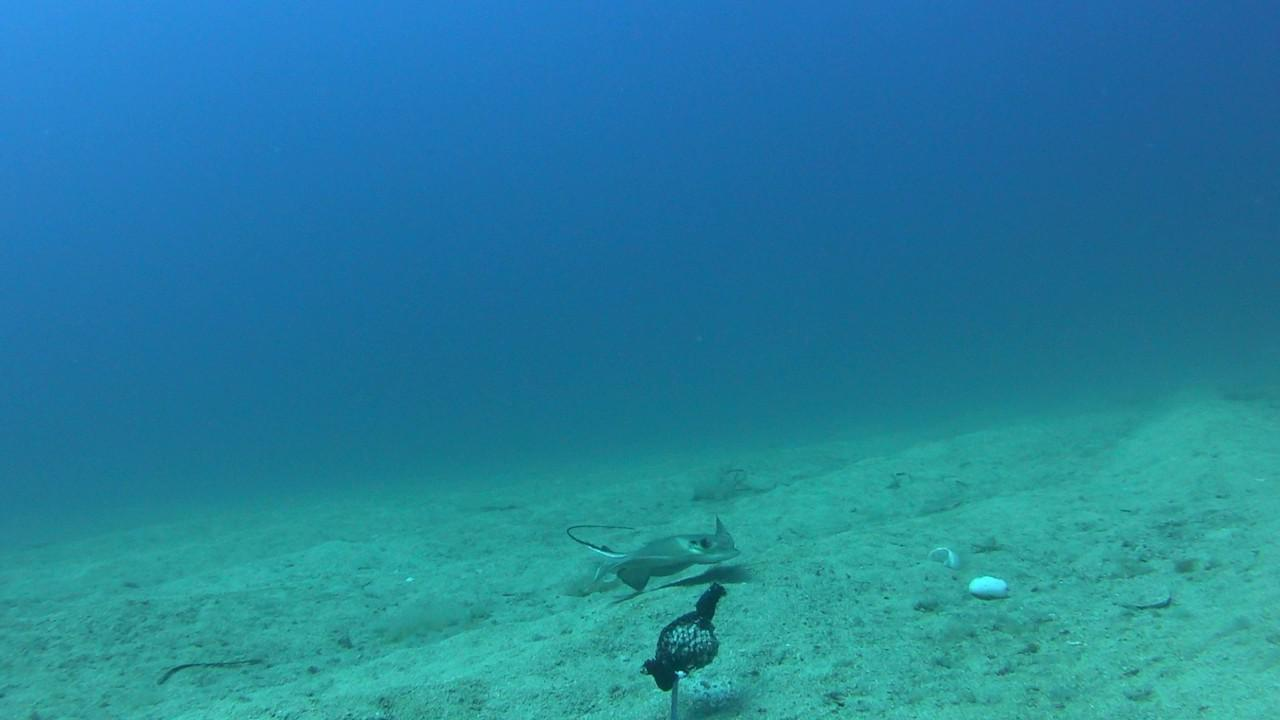myliobatis: (560, 511, 745, 593)
